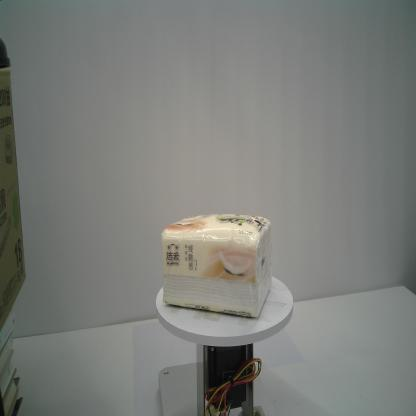Tissue: (161, 214, 272, 318)
